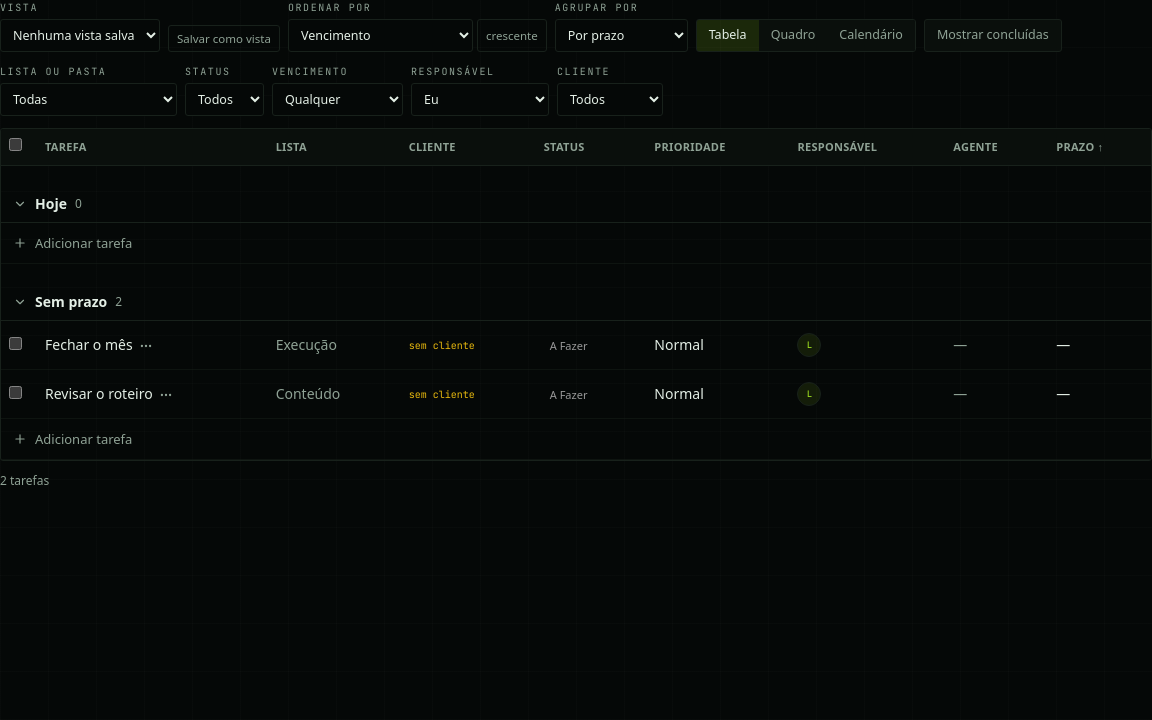
Layout 26/10: Minhas tarefas vê as tarefas de outra pessoa › o filtro Responsável tem cada pessoa ativa da equipe e manda o id dela; vazio diz o nome
Check: the row with test id "caixa-tarefa-t-1" is shown, box [1,320,1151,370]
Select "Pedro" in the dropdown with test id "caixa-filtro-responsavel". click: (480, 100)
box: [411,83,549,116]
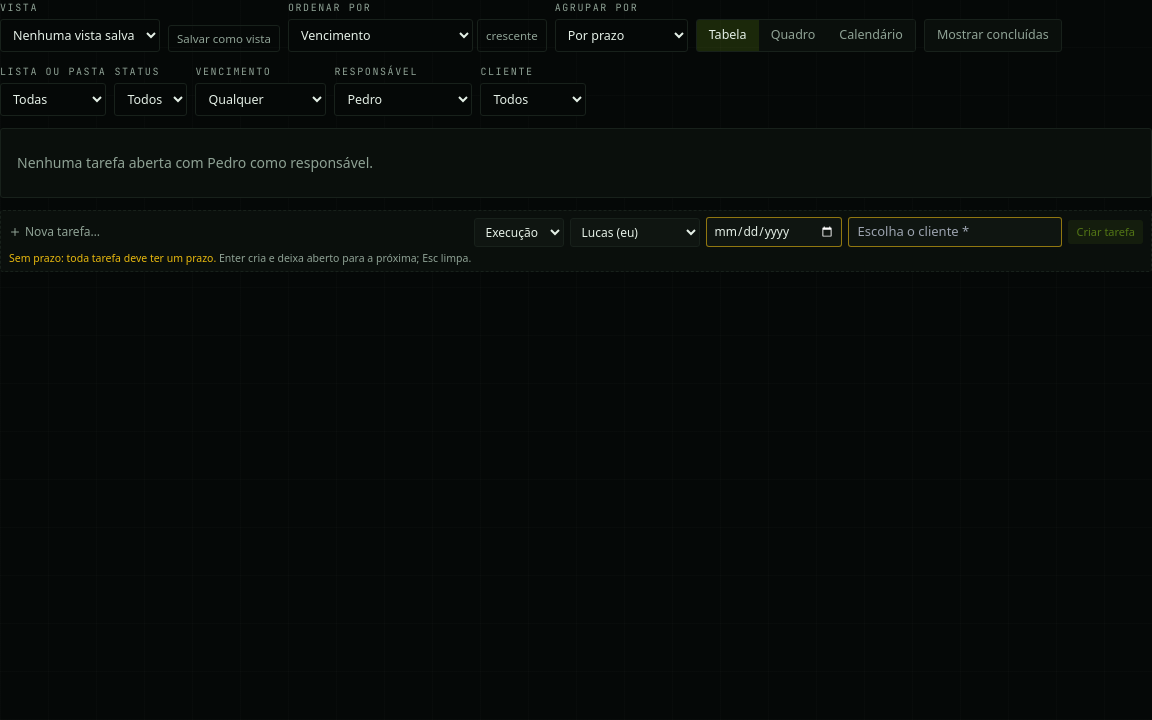
Check: the text "Nenhuma tarefa aberta com Pedro como responsável." is shown, box [0,128,1151,198]
